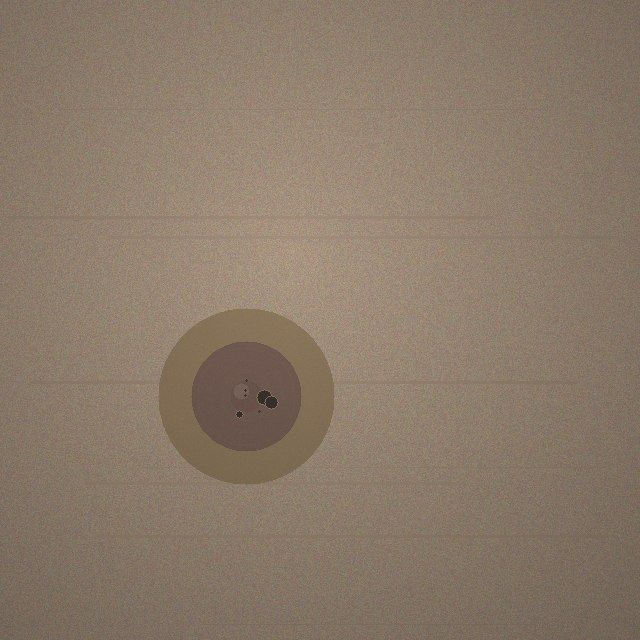shrinkage: (158, 308, 334, 484)
